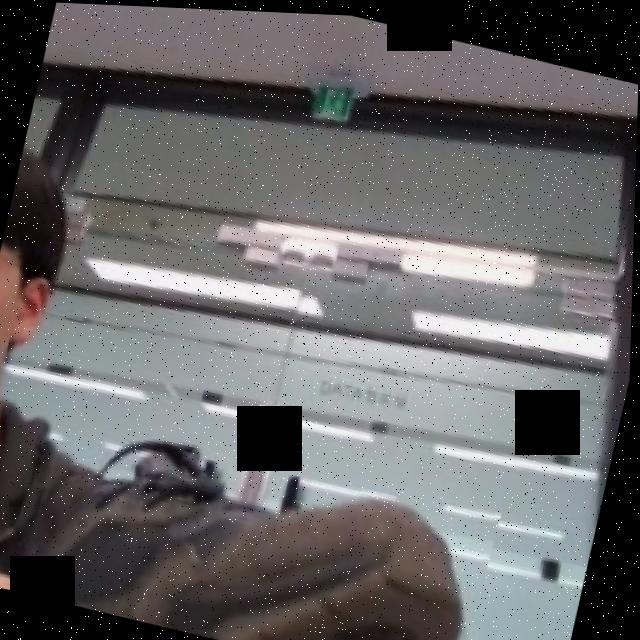shoe: (28, 406, 507, 640)
